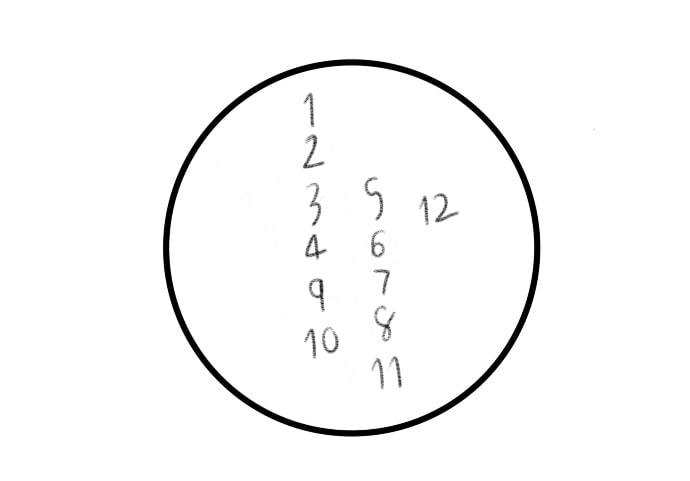eight: (371, 303, 395, 342)
eleven: (370, 354, 404, 389)
five: (361, 173, 384, 220)
four: (303, 231, 327, 264)
nine: (307, 275, 327, 312)
one: (300, 91, 319, 129)
seven: (371, 267, 392, 294)
six: (369, 226, 387, 259)
ten: (302, 321, 340, 360)
three: (305, 181, 321, 226)
twelve: (420, 191, 460, 226)
two: (302, 132, 325, 172)
